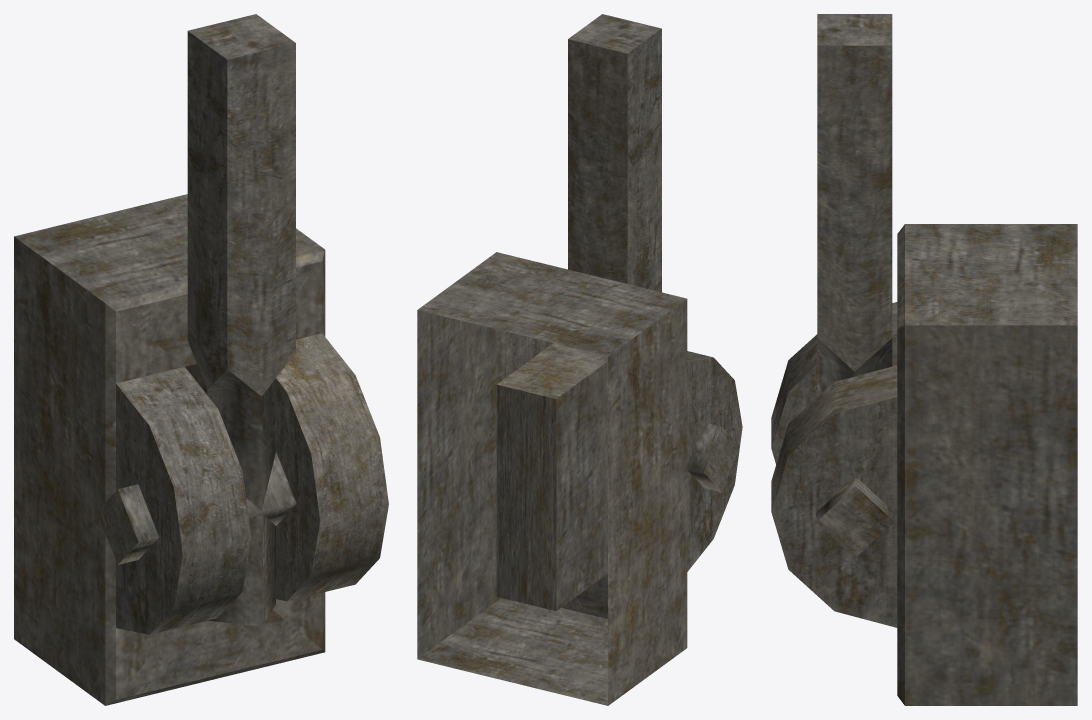
Rendered from lever_4.fbx.
The picture shows the model from 3 angles, left to right: view 1: azimuth 30°, elevation 25°; view 2: azimuth 150°, elevation 25°; view 3: azimuth 270°, elevation 25°; orthographic projection. The views are drawn at different scales.
Visible parts, largest first — view 1: lever_4a, lever_4b; view 2: lever_4a, lever_4b; view 3: lever_4a, lever_4b.
Part boxes in pixels (x1,y1,x2,y2): lever_4a: (14,194,388,705); lever_4b: (187,14,295,626); lever_4a: (417,252,742,705); lever_4b: (568,14,661,292); lever_4a: (771,224,1077,705); lever_4b: (817,14,892,396).
Bounding box in the file's own units: 9 × 23 × 10.2.
